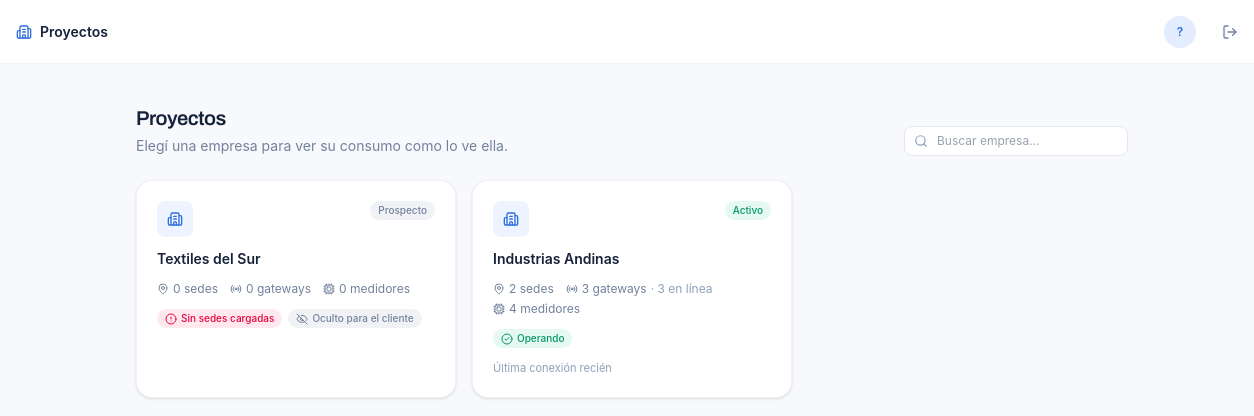
Test: la cabecera y el buscador › filtra por nombre
This screenshot has width=1254, height=416.
Check: the text "Industrias Andinas" is shown, box [493,249,619,269]
Type "textiles" into the field labelled "Buscar empresa" at (1016, 141), box [904,126,1128,156]
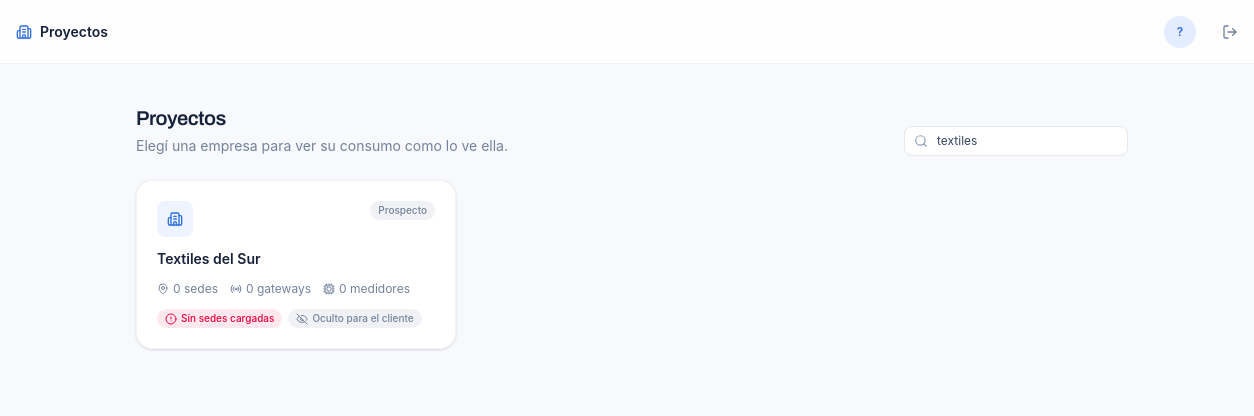
Check: the text "Textiles del Sur" is shown, box [157,249,260,269]
Check: the button "Industrias Andinas" is gone
